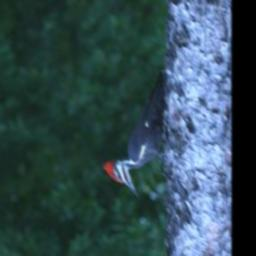Woodpecker: (104, 65, 170, 202)
